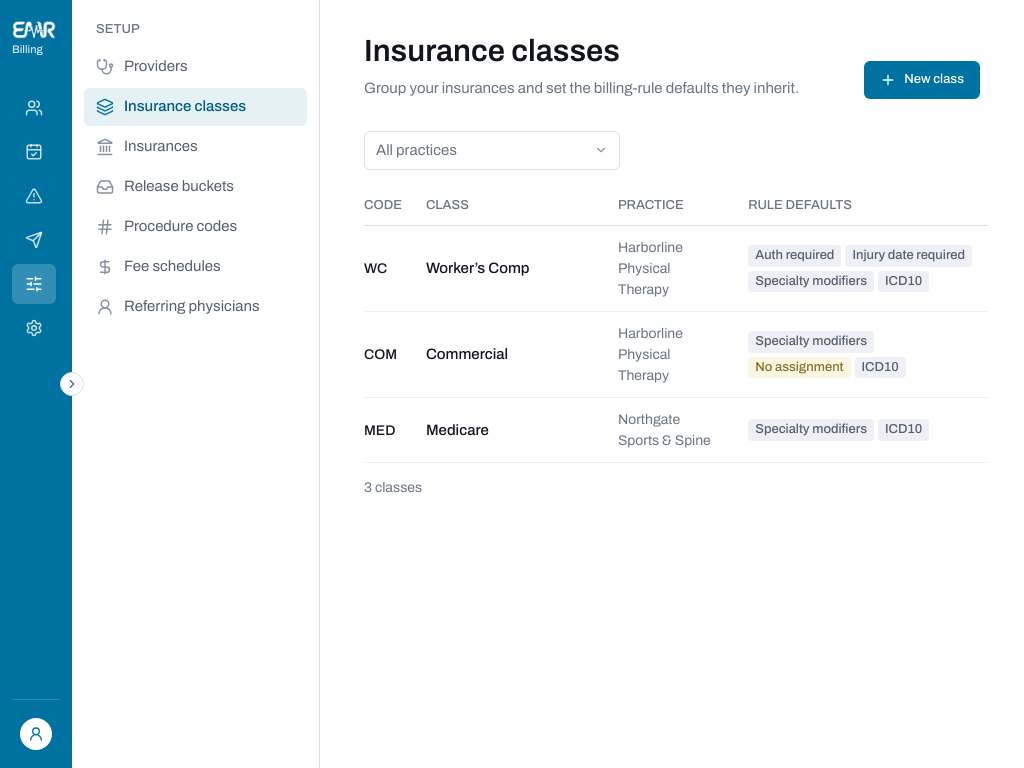
it: Setup → Insurance classes › refuses an incomplete class
Click the button "New class" at (922, 80), box [864,61,980,99]
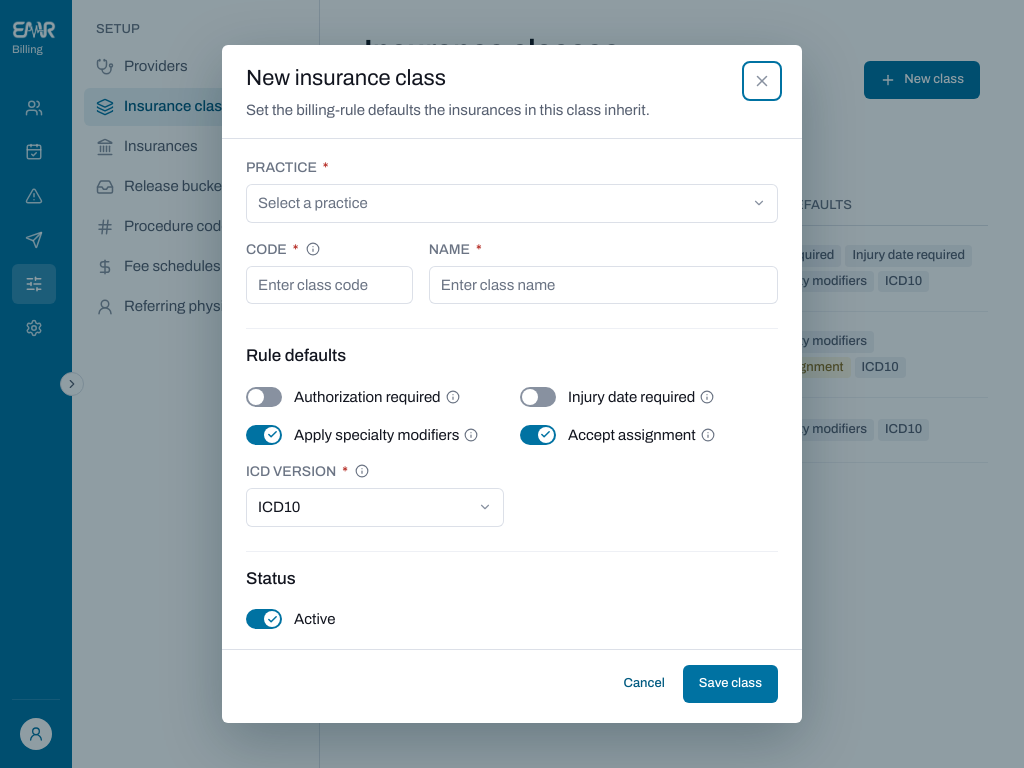
Click the button "Save class" at (730, 684), box [683,665,778,703]
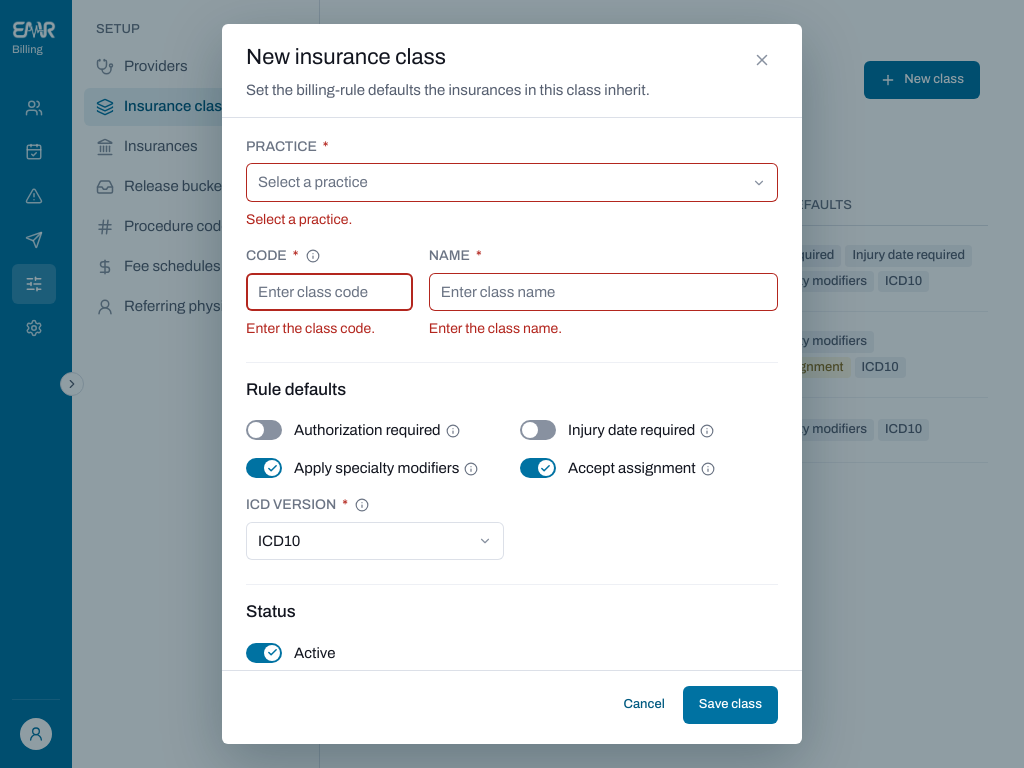
Check: the text "Select a practice." is shown, box [246,212,352,227]
Check: the text "Enter the class code." is shown, box [246,321,375,336]
Check: the text "Enter the class name." is shown, box [429,321,562,336]
